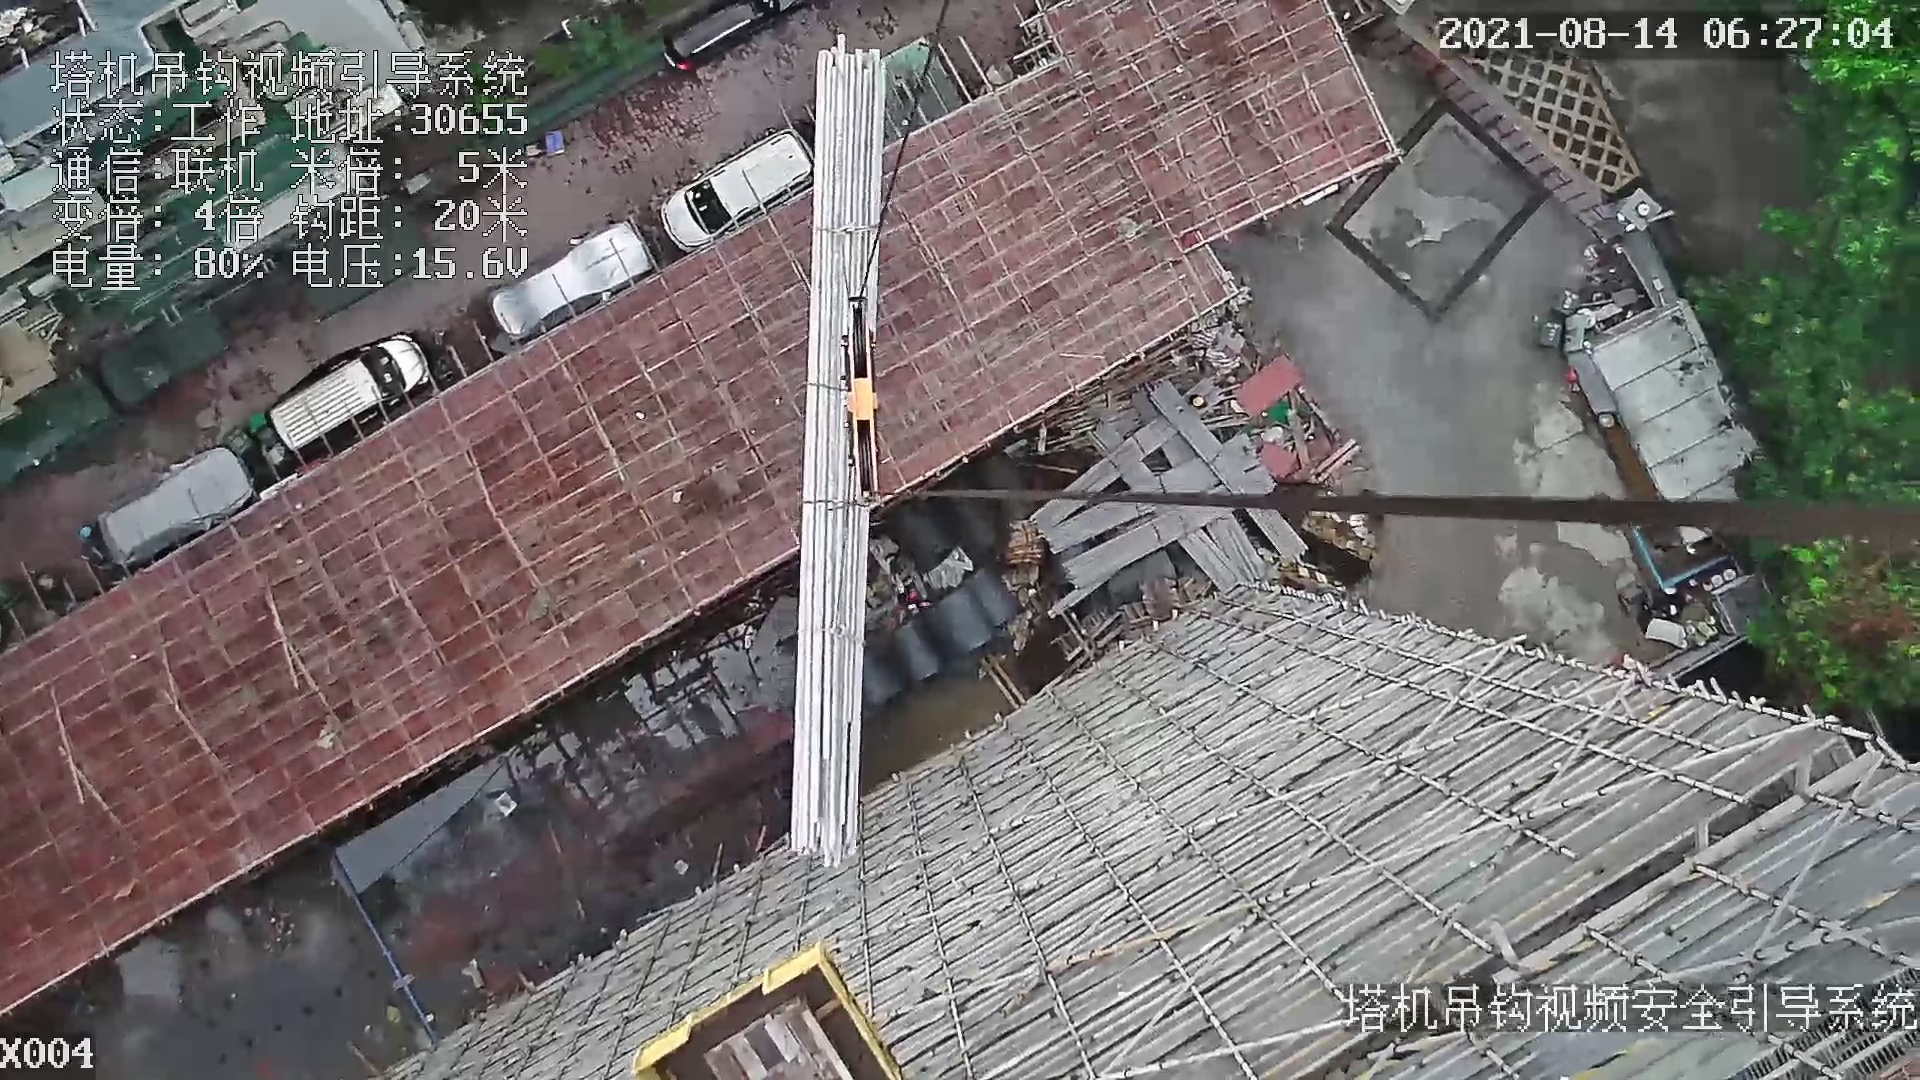hook: (833, 291, 894, 506)
